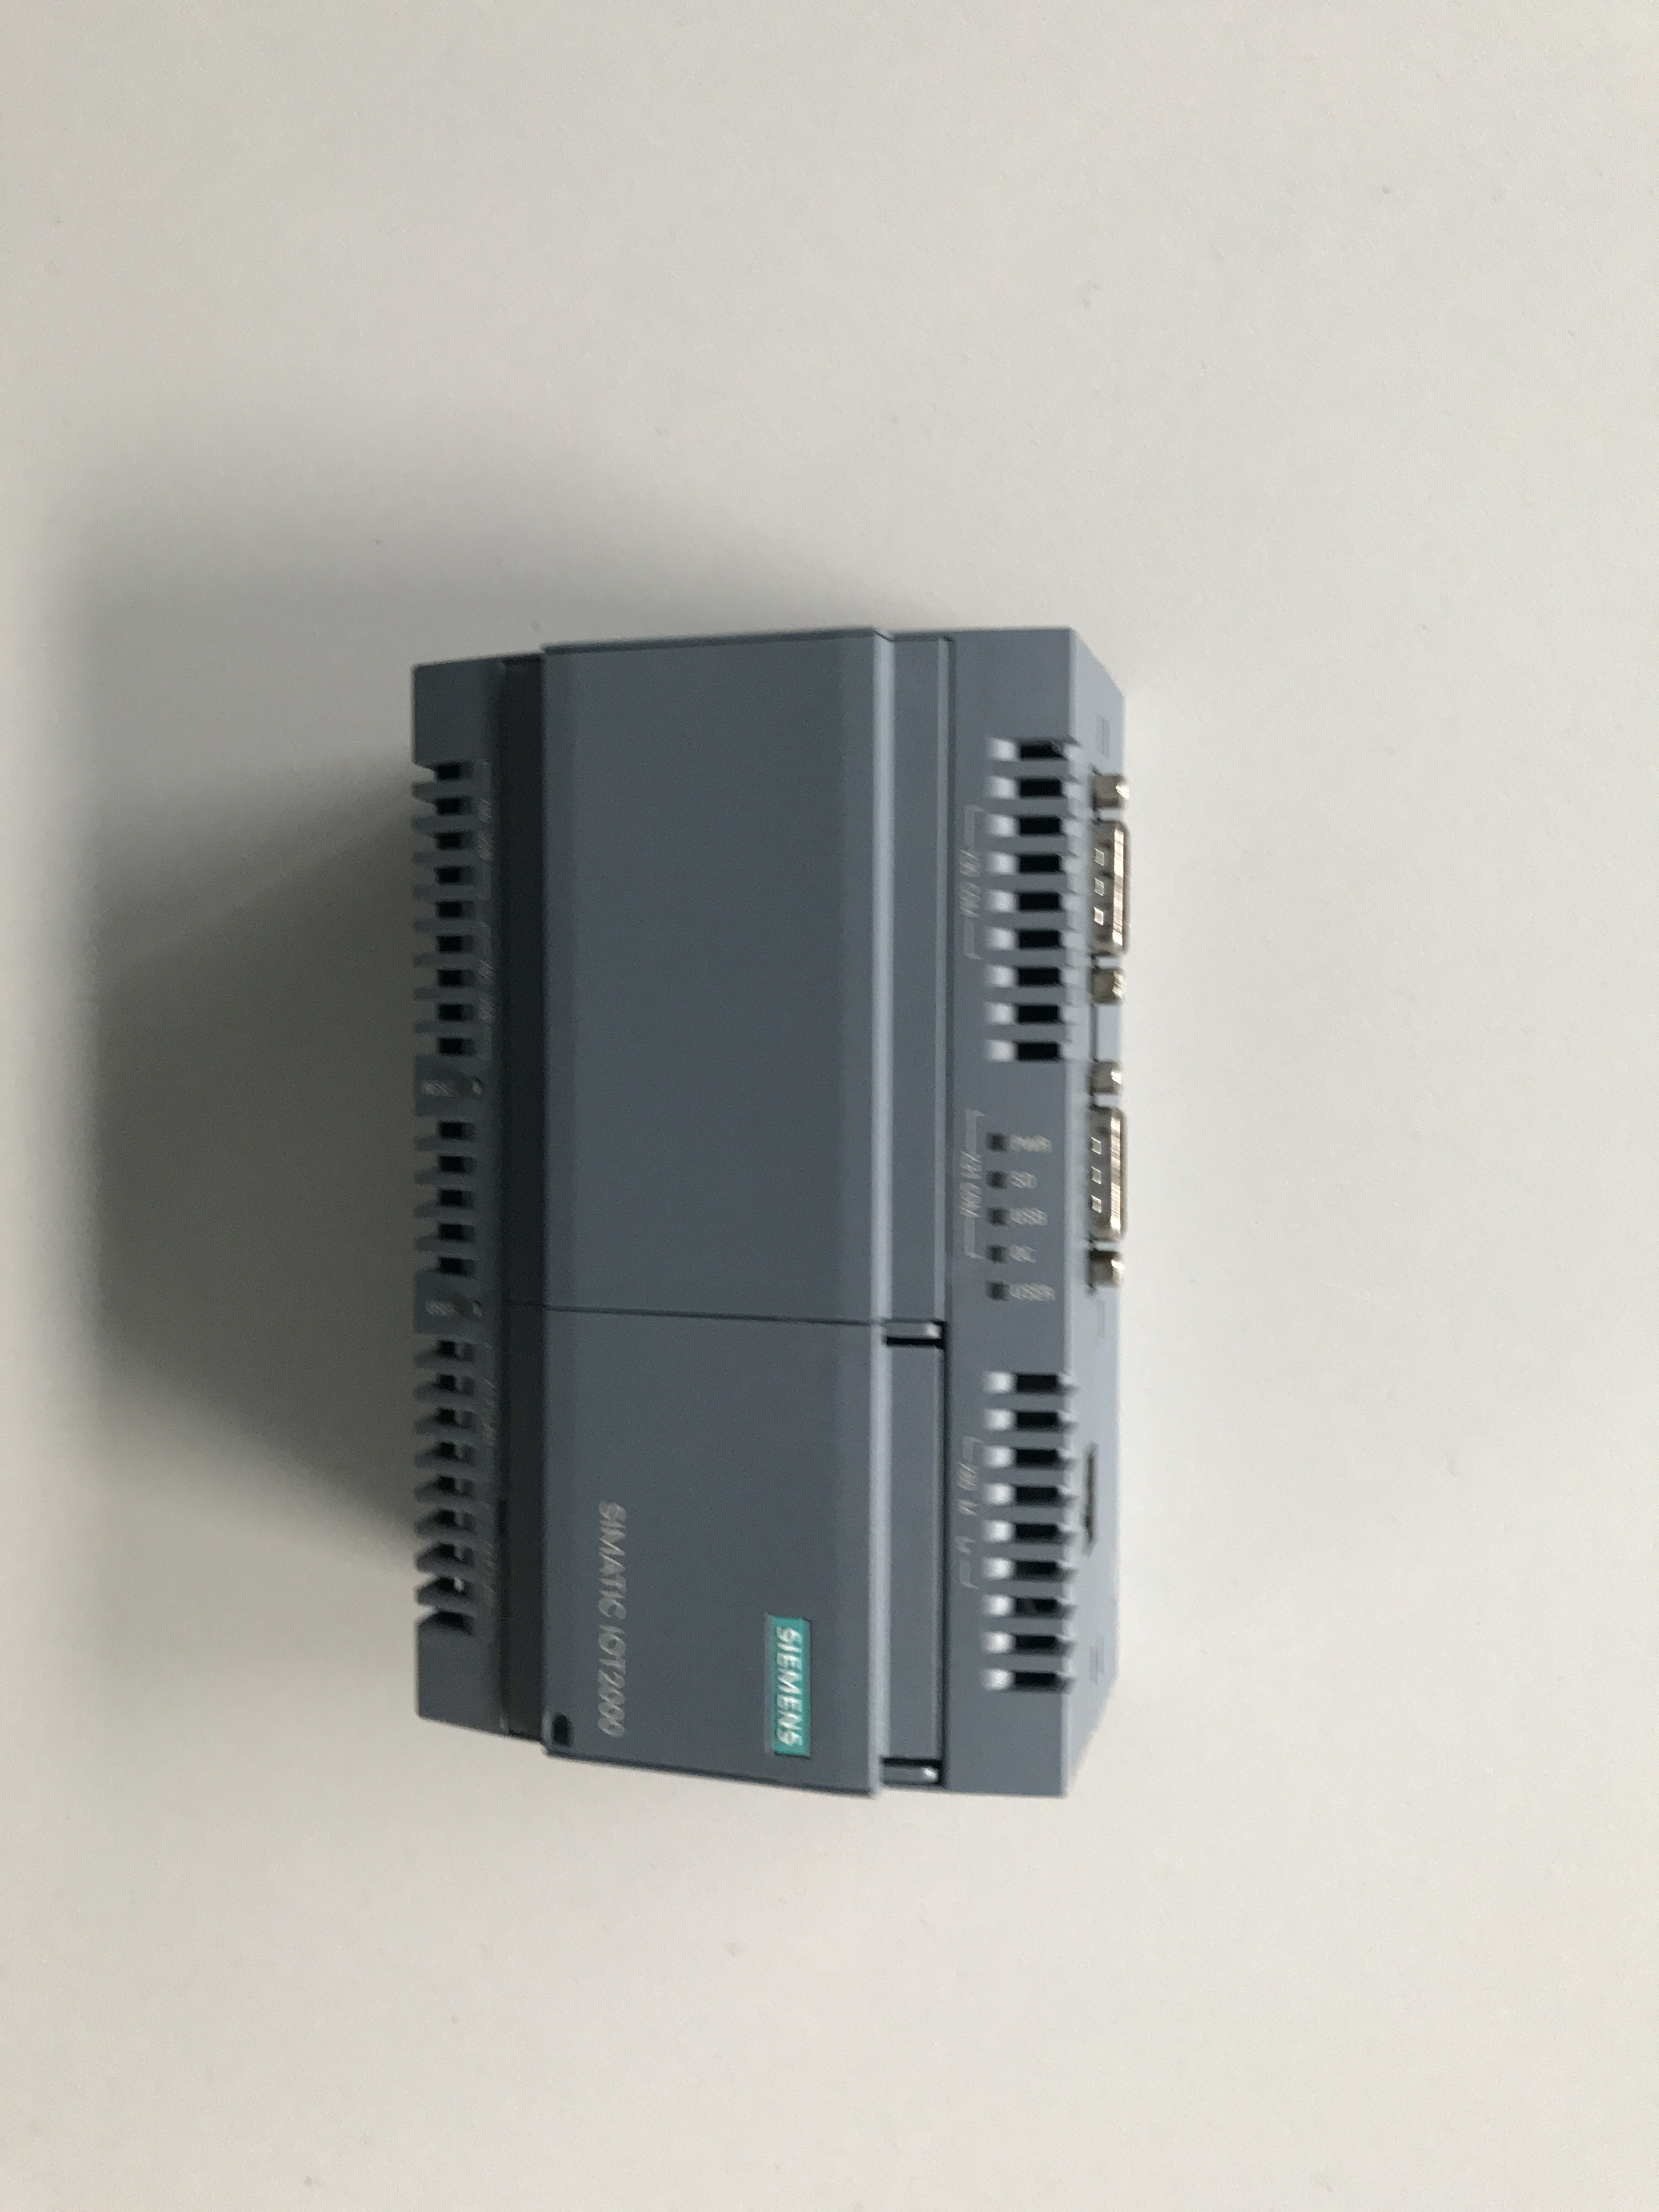device: (410, 625, 1131, 1806)
